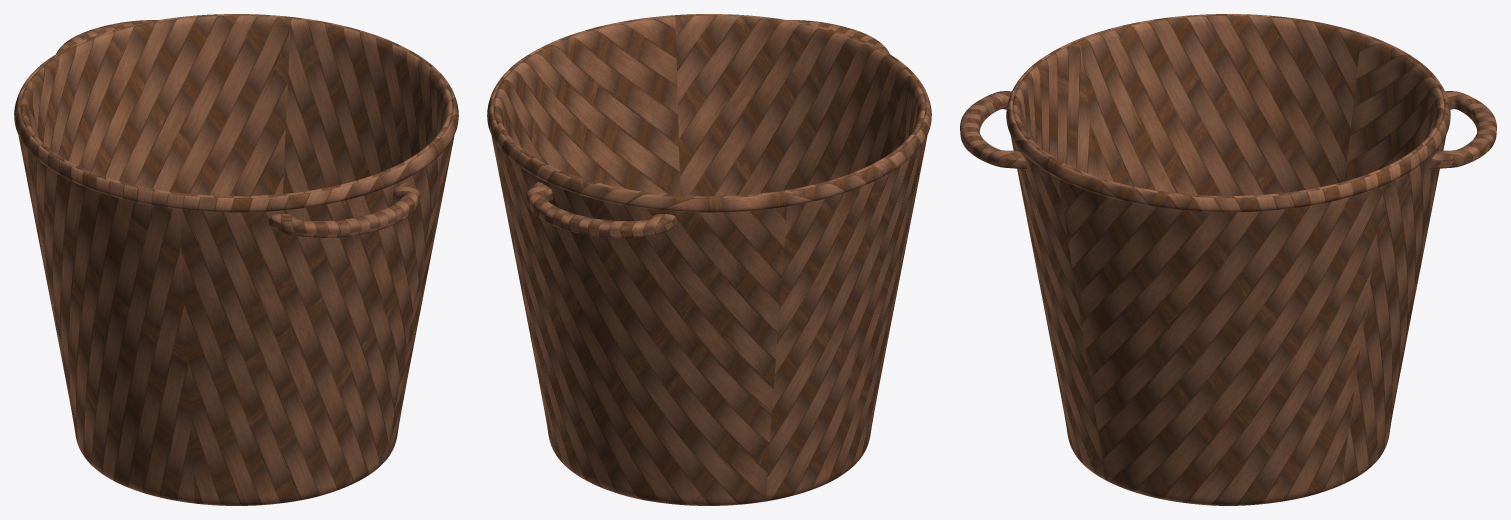
Rendered from basket2 open.fbx.
3 views of the same model, side by side, from view 1: azimuth 30°, elevation 25°; view 2: azimuth 150°, elevation 25°; view 3: azimuth 270°, elevation 25° (orthographic).
Visible parts, largest first — view 1: Cylinder.007, Handle1.001, Handle2.001; view 2: Cylinder.007, Handle2.001, Handle1.001; view 3: Cylinder.007, Handle1.001, Handle2.001.
Boxes of the visible parts, <box> form: Cylinder.007: <box>14,14,458,505</box>; Handle1.001: <box>269,182,419,237</box>; Handle2.001: <box>56,20,157,53</box>; Cylinder.007: <box>487,14,931,505</box>; Handle2.001: <box>526,182,676,237</box>; Handle1.001: <box>788,20,889,53</box>; Cylinder.007: <box>1006,14,1450,505</box>; Handle1.001: <box>960,91,1026,169</box>; Handle2.001: <box>1430,91,1496,169</box>.
Size of the model in its own units: 67.52 by 56.28 by 81.56.
1 material, 1 textured.
